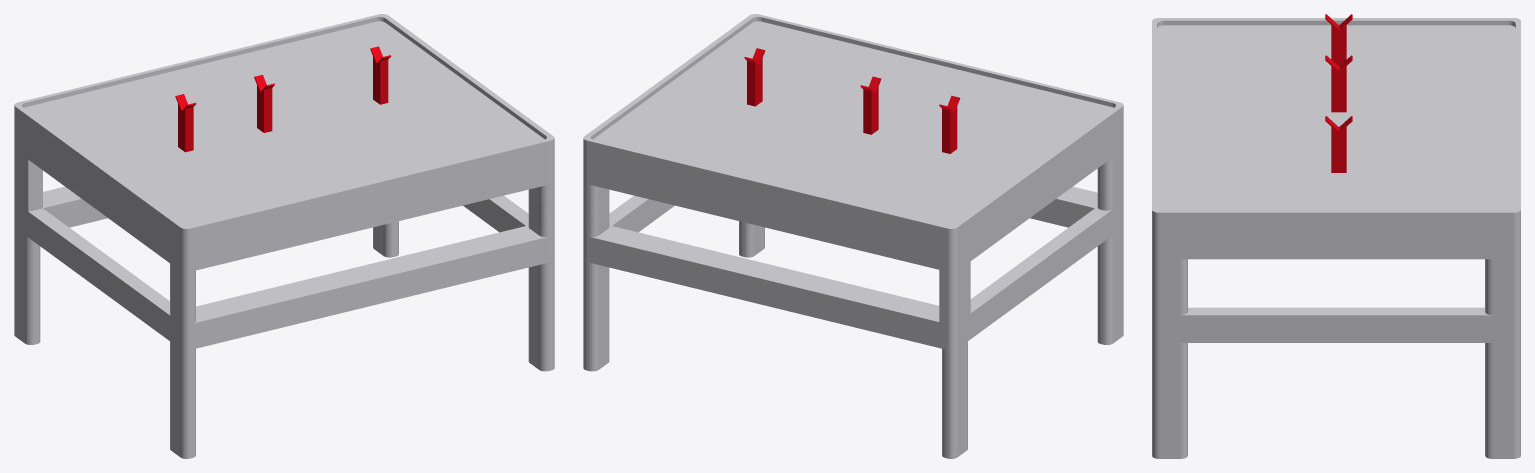
File: столобмена.fbx
3 views of the same model, side by side, from view 1: azimuth 30°, elevation 25°; view 2: azimuth 150°, elevation 25°; view 3: azimuth 270°, elevation 25° (orthographic). The views are drawn at different scales.
Visible parts, largest first — view 1: Стол обмена заготовки; view 2: Стол обмена заготовки; view 3: Стол обмена заготовки.
Boxes of the visible parts, left/top/right/bottom form: Стол обмена заготовки: left=14, top=14, right=554, bottom=458; Стол обмена заготовки: left=583, top=14, right=1123, bottom=458; Стол обмена заготовки: left=1152, top=14, right=1520, bottom=458.
Size of the model in its own units: 0.9 by 0.634 by 0.72.
